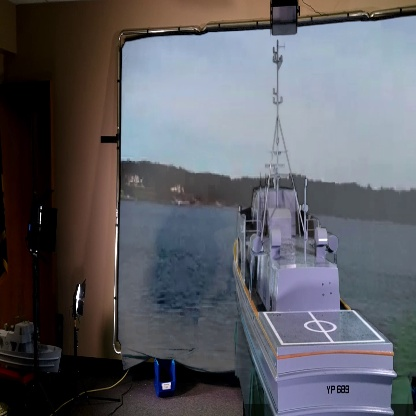YP689: (231, 42, 400, 416)
